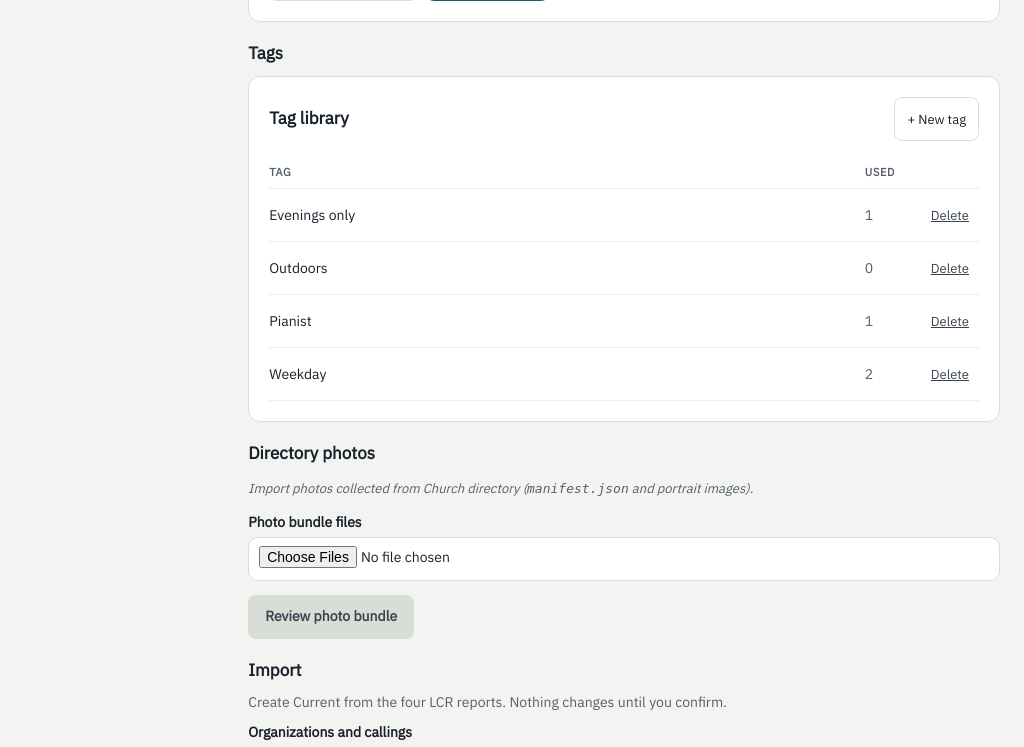
Test case: Settings Tags section › usage refusal shows the alert and Delete stays disabled
(page scrolled)
Click the button named "Delete Weekday".
click(950, 374)  # box top-left (921, 352), bottom-right (979, 396)
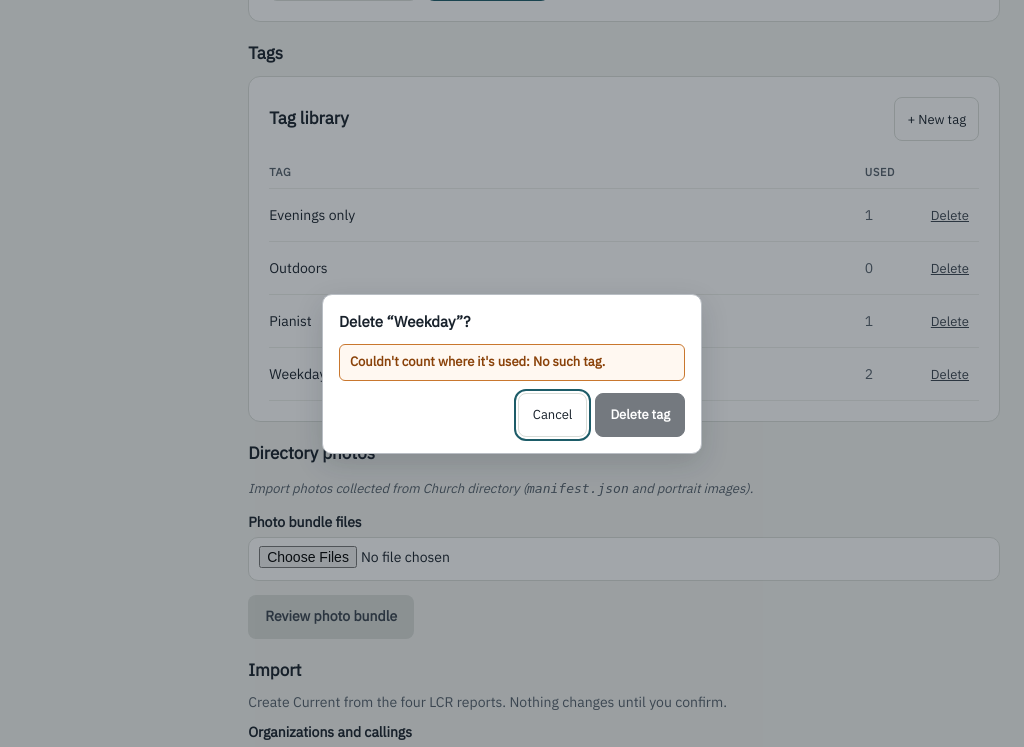
Expected: the message reads "Couldn't count where it's used: No such tag.", top-left (350, 353), bottom-right (605, 370)
Expected: the button "Delete tag" is disabled, top-left (595, 393), bottom-right (685, 437)
Click the button "Cancel".
click(553, 415)  # box top-left (518, 393), bottom-right (587, 437)
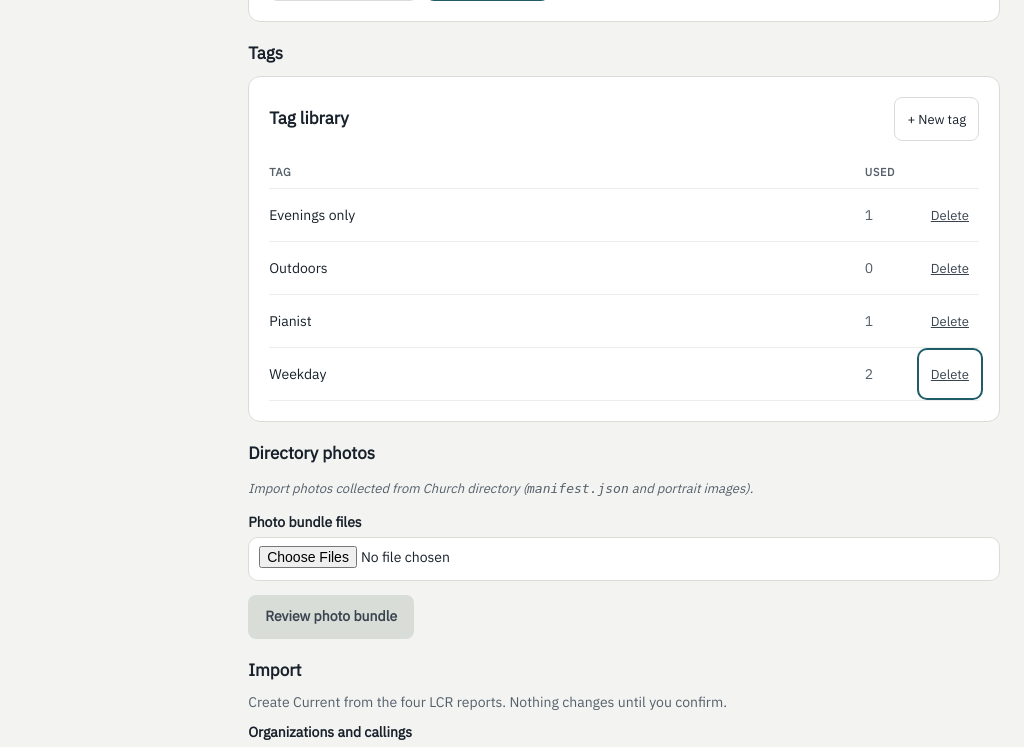
Expected: the dialog is gone
